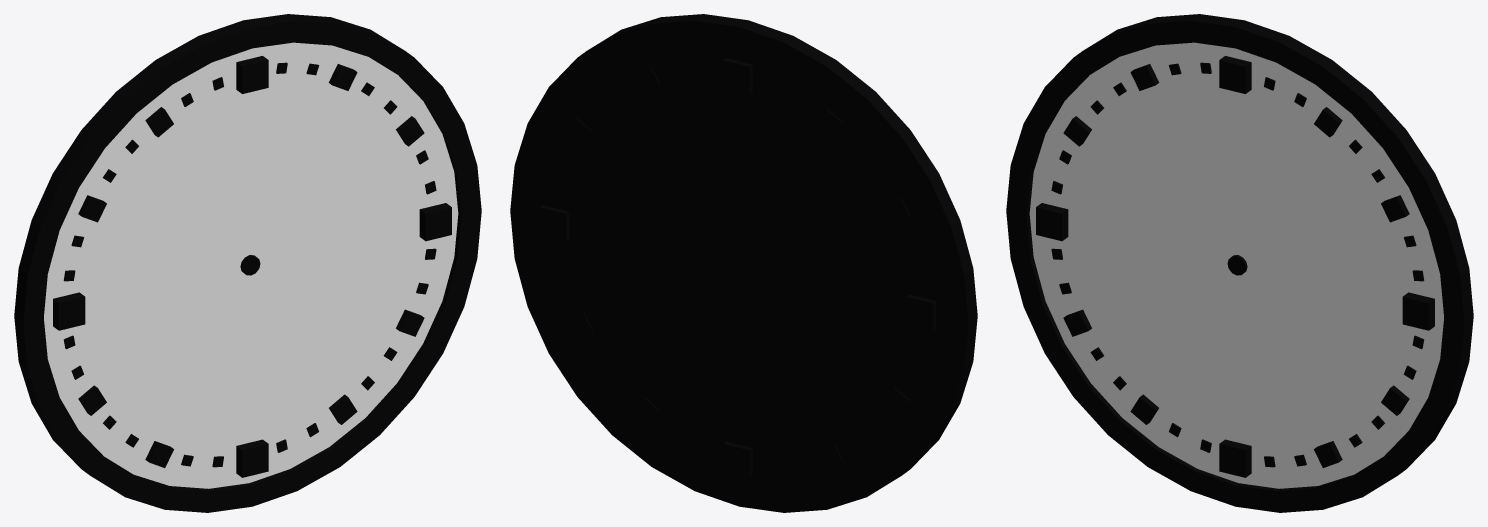
Rendered from clock.glb.
The picture shows the model from 3 angles, left to right: view 1: azimuth 30°, elevation 25°; view 2: azimuth 150°, elevation 25°; view 3: azimuth 330°, elevation 25°; orthographic projection.
Parts seen in each view (by area): view 1: Cylinder; view 2: Cylinder; view 3: Cylinder.
Part boxes in pixels (x1,y1,x2,y2): Cylinder: [14, 14, 481, 512]; Cylinder: [510, 14, 977, 512]; Cylinder: [1006, 14, 1473, 512].
Bounding box in the file's own units: 0.4 × 0.4 × 0.023.
Materials: 1 (1 with a texture image).
